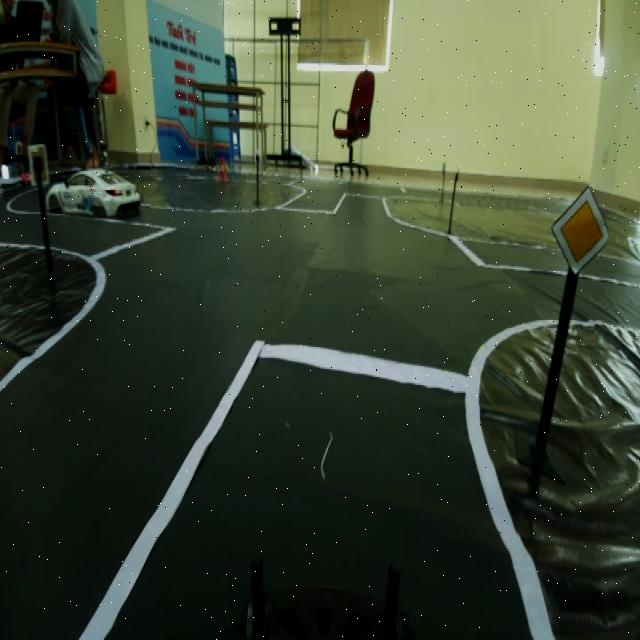priority: (550, 183, 608, 286)
